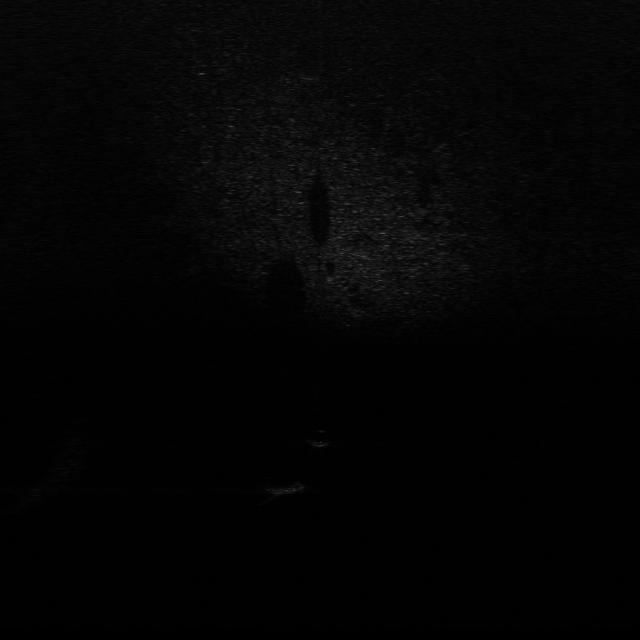ball: (304, 427, 332, 449)
square cage: (264, 477, 314, 499)
